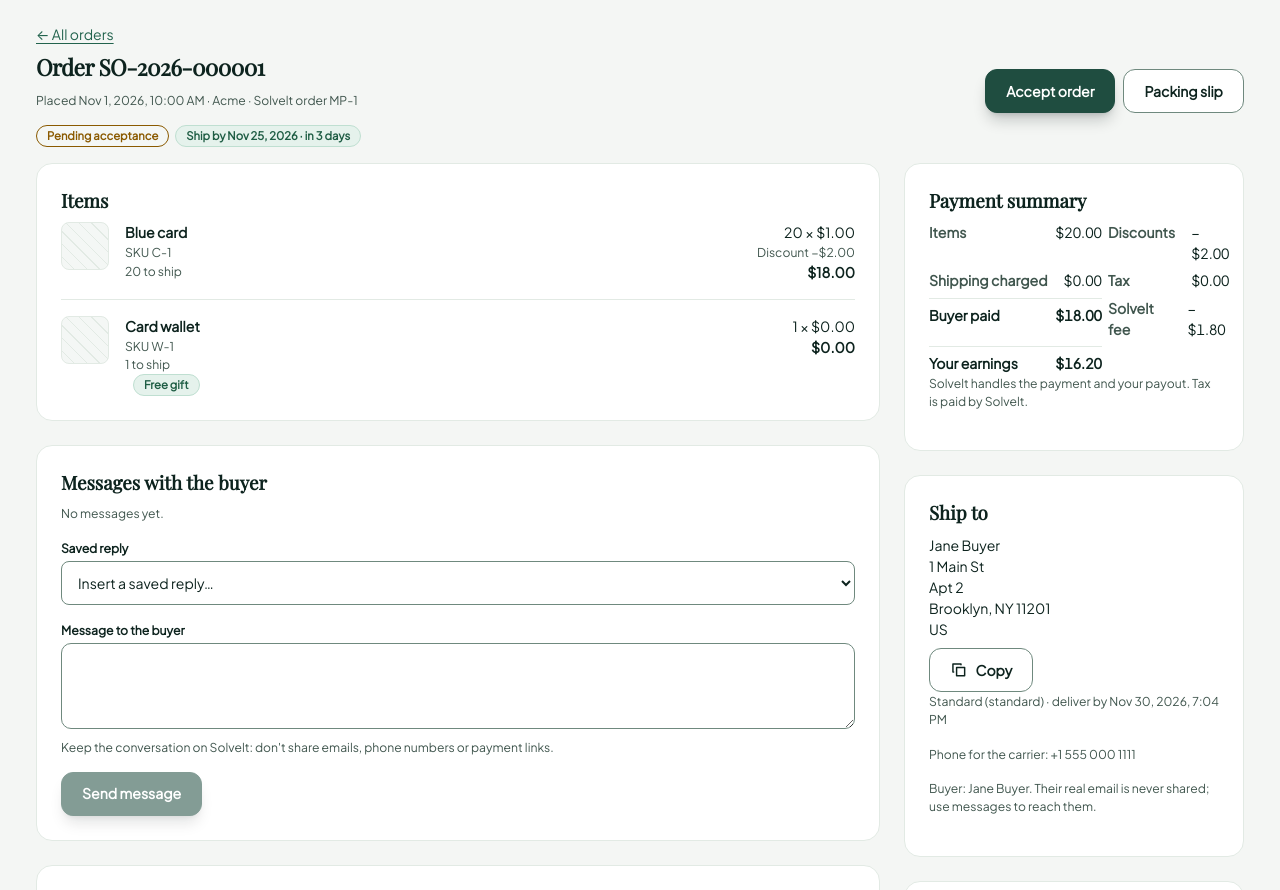
Test case: quantity offers on an order › tags the gift line "Free gift", shows the tier discount per line, and the slip tags the gift too
The image size is (1280, 890).
Check: the text "Free gift" is shown, box [133,374,200,396]
Check: the text "Discount −$2.00" is shown, box [757,243,855,262]
Step 1. Click the button "Packing slip" → x=1184, y=91, box [1124,69,1244,113]
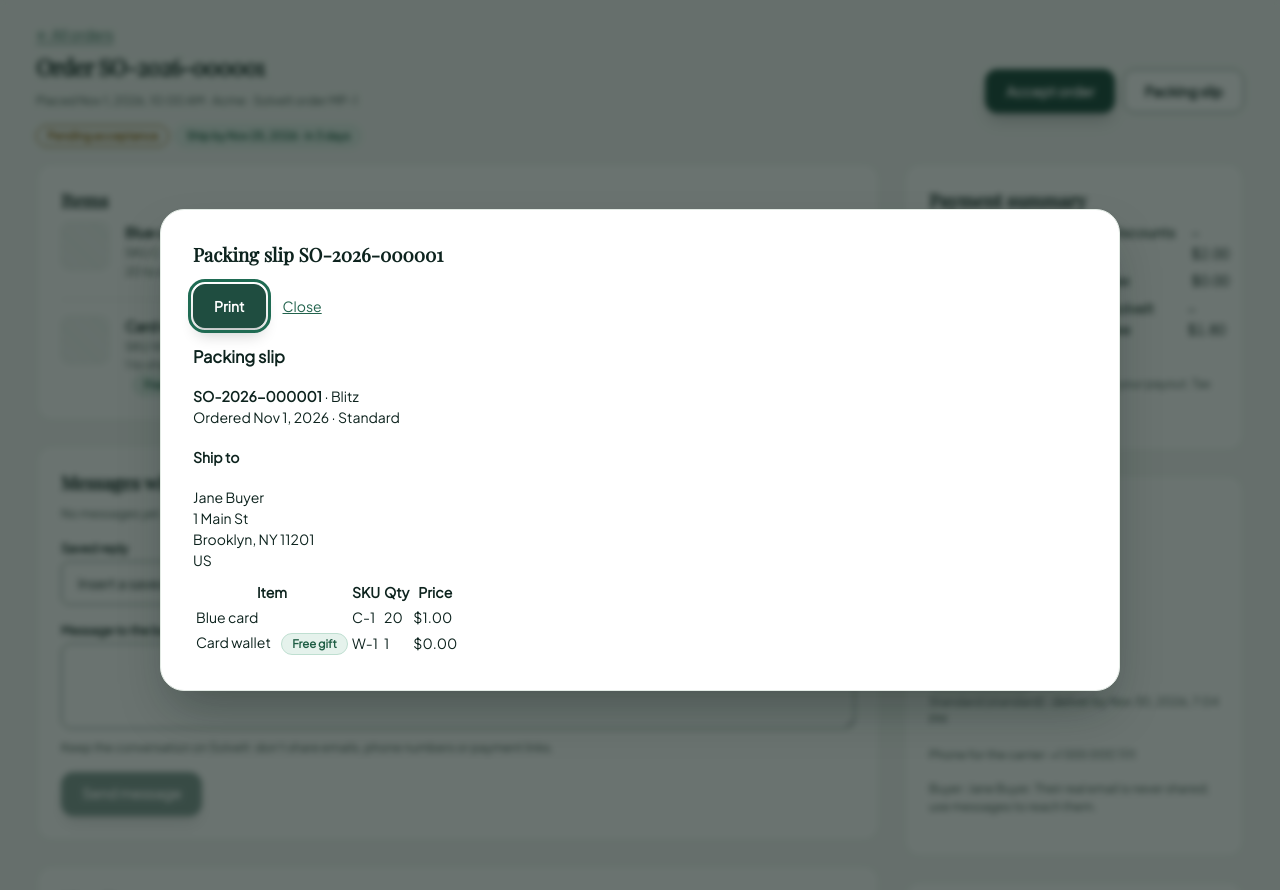
Check: the text "Free gift" is shown, box [281,633,348,655]
